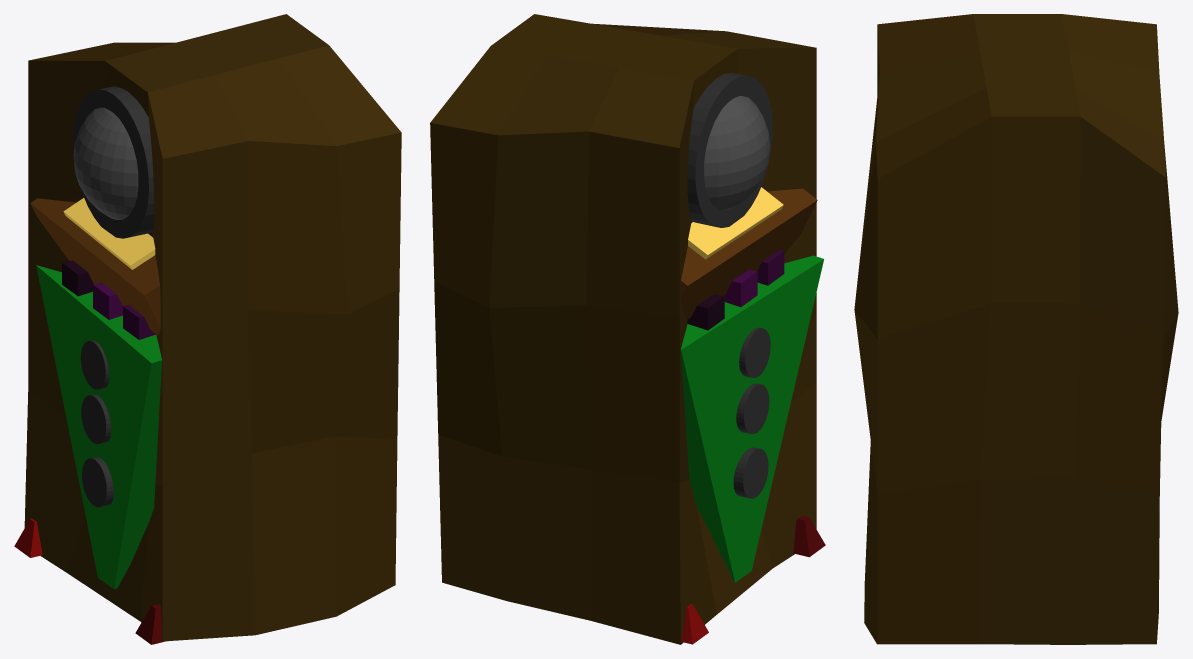
Rendered from RasmuseJootbox.fbx.
3 views of the same model, side by side, from view 1: azimuth 30°, elevation 25°; view 2: azimuth 150°, elevation 25°; view 3: azimuth 270°, elevation 25° (orthographic). The views are drawn at different scales.
Visible parts, largest first — view 1: Cube, Cube.002, Cube.001, Sphere, Cylinder, Cube.005, Cylinder.003, Cylinder.002, Cylinder.001, Cube.008, Cube.006, Cube.004 (+2 smaller); view 2: Cube, Cube.002, Cube.001, Sphere, Cylinder, Cube.005, Cylinder.003, Cylinder.002, Cylinder.001, Cube.004, Cube.008, Cube.006 (+2 smaller); view 3: Cube.
Part boxes in pixels (x1,y1,x2,y2): Cube: (24, 14, 401, 641); Cube.002: (36, 265, 162, 589); Cube.001: (30, 198, 160, 335); Sphere: (73, 107, 138, 219); Cylinder: (73, 86, 154, 238); Cube.005: (63, 198, 155, 269); Cylinder.003: (82, 457, 113, 507); Cylinder.002: (81, 394, 111, 444); Cylinder.001: (80, 340, 109, 389); Cube.008: (62, 260, 93, 296); Cube.006: (93, 282, 122, 319); Cube.004: (135, 604, 165, 644); Cube: (430, 14, 816, 644); Cube.002: (680, 255, 823, 582); Cube.001: (681, 188, 817, 319); Sphere: (704, 96, 770, 210); Cylinder: (687, 72, 772, 227); Cube.005: (688, 187, 783, 259); Cylinder.003: (733, 447, 768, 498); Cylinder.002: (736, 383, 769, 434); Cylinder.001: (739, 327, 770, 377); Cube.004: (793, 516, 825, 557); Cube.008: (687, 294, 724, 330); Cube.006: (723, 269, 757, 306); Cube: (854, 14, 1178, 644).
Size of the model in its own units: 126 by 246 by 134.
